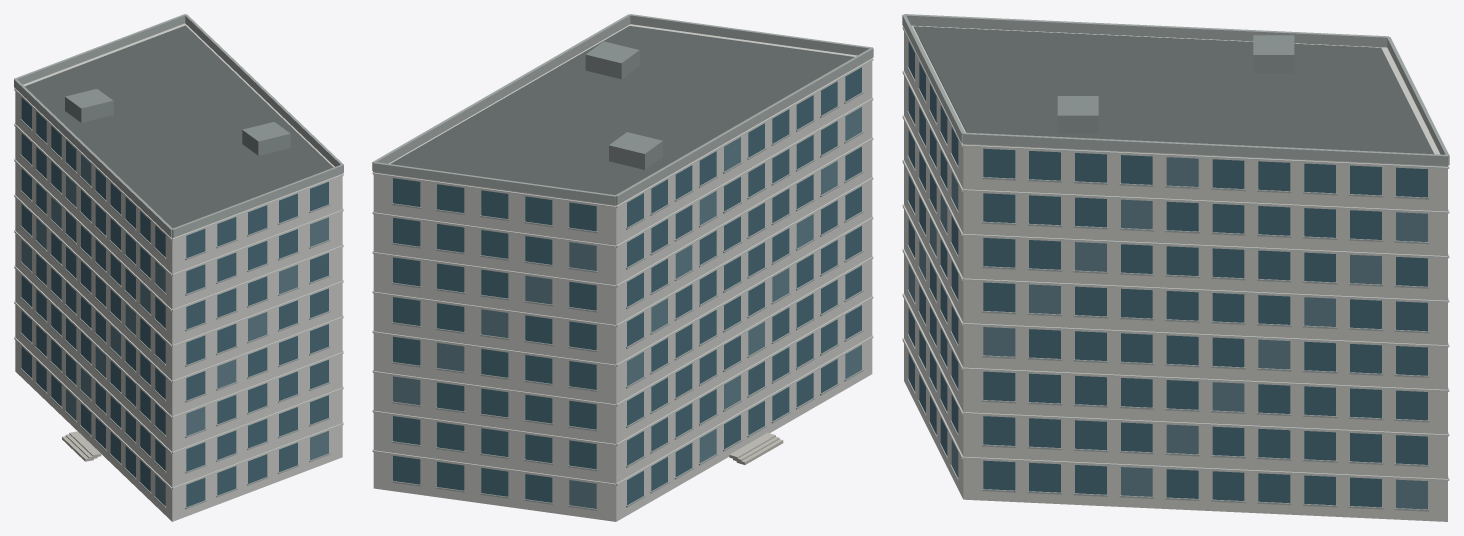
The model's file is 核心区东侧-023.glb.
3 views of the same model, side by side, from view 1: azimuth 30°, elevation 25°; view 2: azimuth 150°, elevation 25°; view 3: azimuth 270°, elevation 25° (orthographic). The views are drawn at different scales.
Parts seen in each view (by area): view 1: 核心区东侧-023; view 2: 核心区东侧-023; view 3: 核心区东侧-023.
Part boxes in pixels (x1,y1,x2,y2): 核心区东侧-023: [14, 14, 343, 521]; 核心区东侧-023: [372, 14, 873, 521]; 核心区东侧-023: [902, 14, 1449, 521].
Size of the model in its own units: 23.35 by 28.42 by 37.56.
